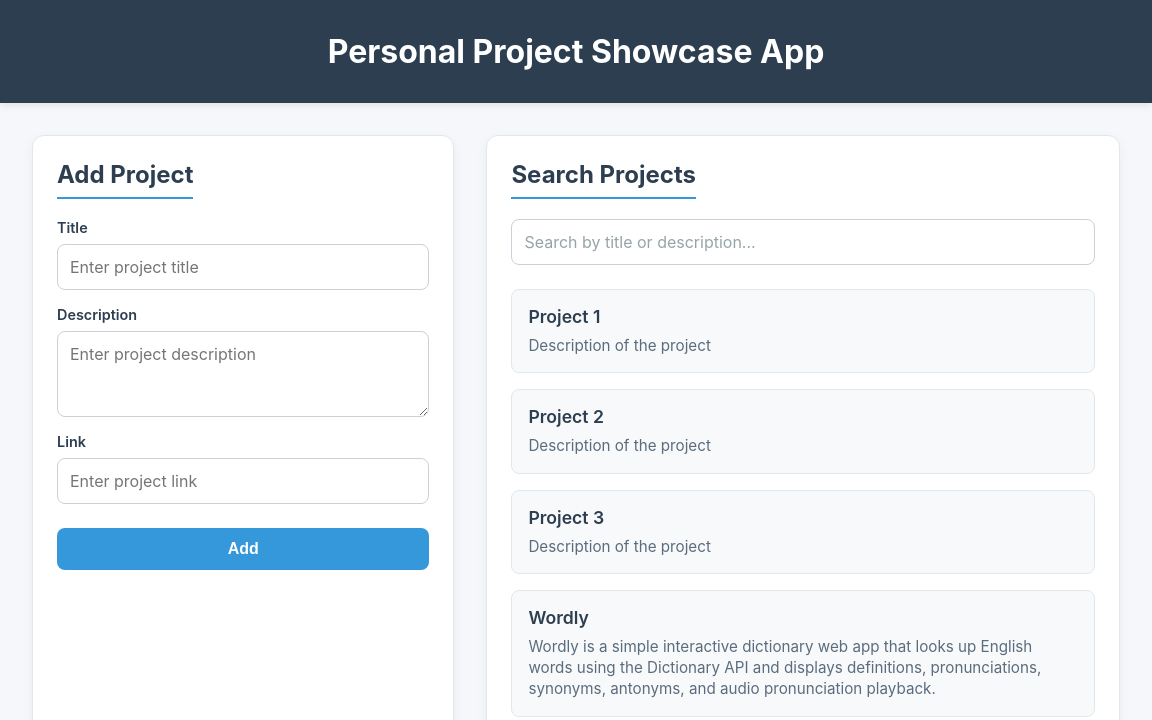
Test: App Component › shows no results message when no projects match search
Type "Nonexistent Project" into the field with placeholder "Search by title or description..." at x=803, y=242, box [511,219,1095,265]
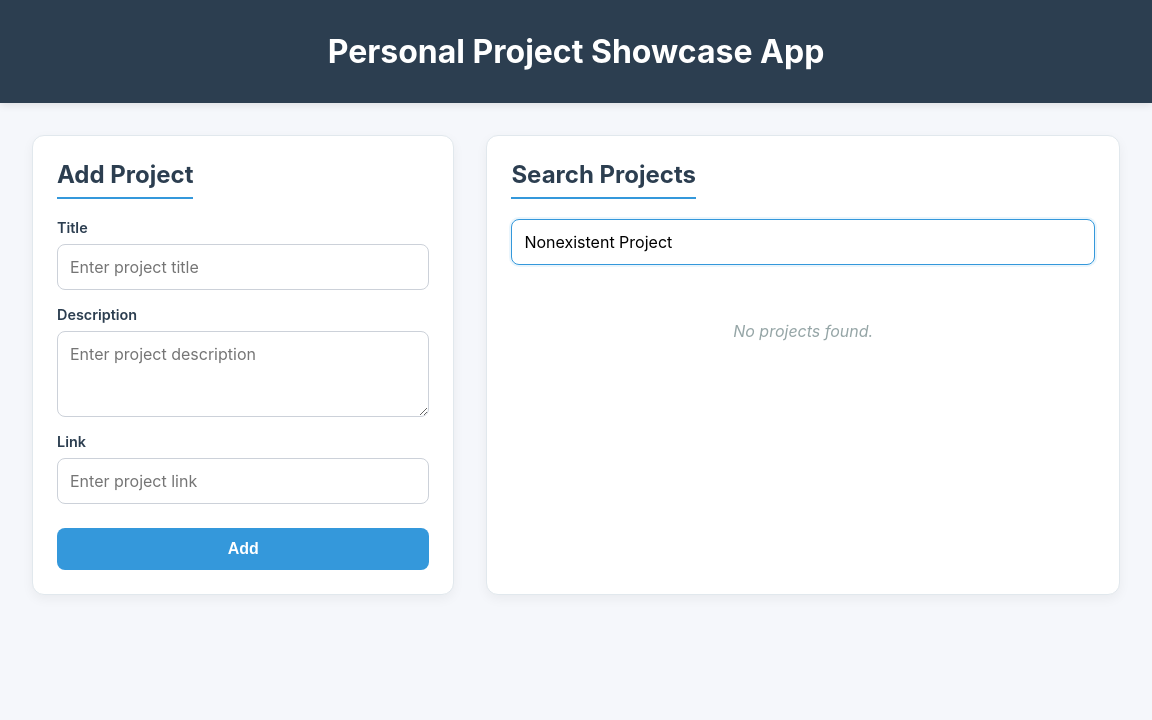
Now the text "No projects found." is shown, box [733,321,873,341]
